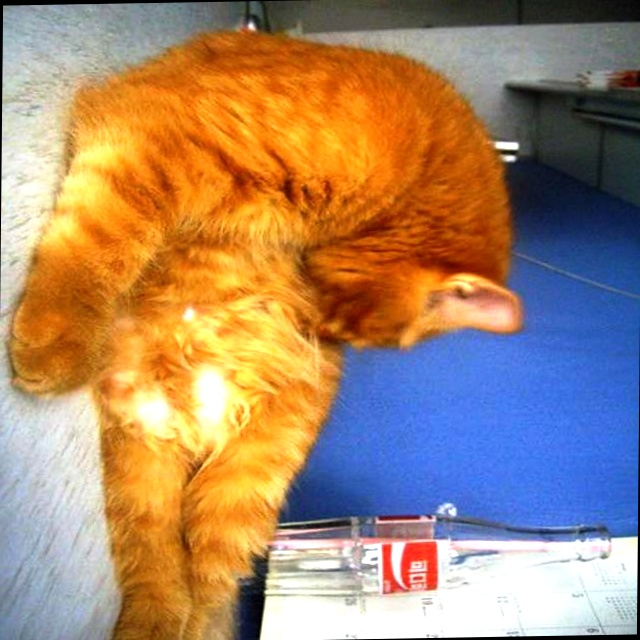hairloss: (116, 373, 229, 442)
